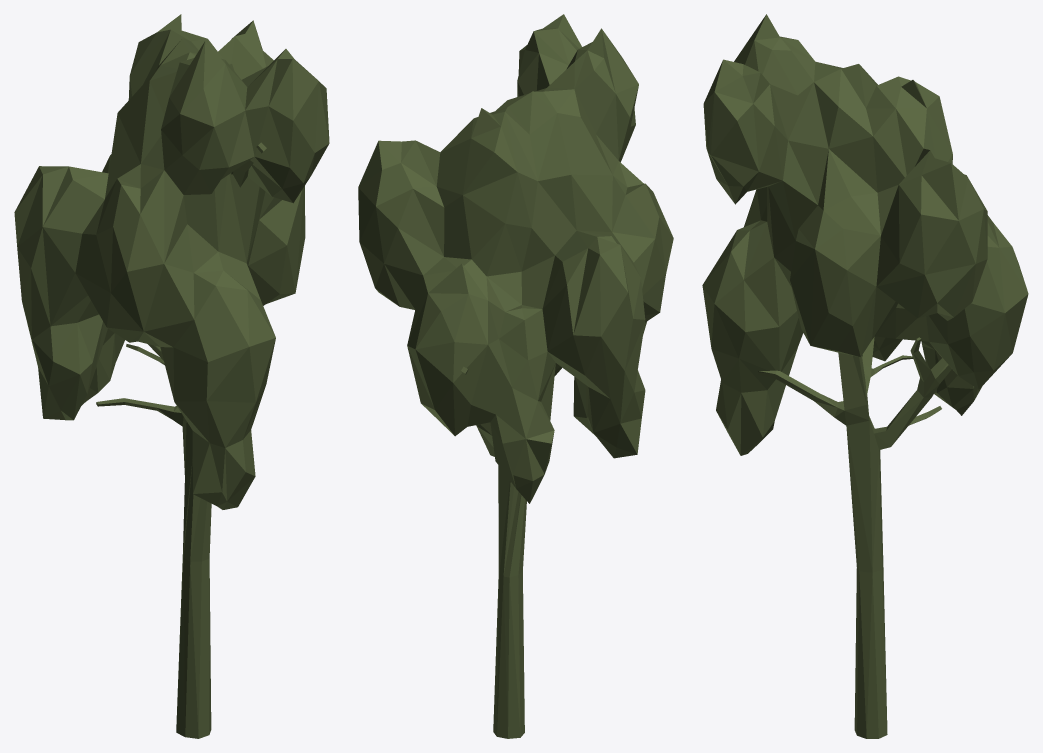
The model's file is tree_5.glb.
The picture shows the model from 3 angles, left to right: view 1: azimuth 30°, elevation 25°; view 2: azimuth 150°, elevation 25°; view 3: azimuth 270°, elevation 25°; orthographic projection. The views are drawn at different scales.
Visible parts, largest first — view 1: _5_tree; view 2: _5_tree; view 3: _5_tree.
Part boxes in pixels (<box>): _5_tree: <box>14,14,329,738</box>; _5_tree: <box>358,14,673,738</box>; _5_tree: <box>702,14,1028,738</box>.
Size of the model in its own units: 0.8389 by 2.13 by 0.9014.
